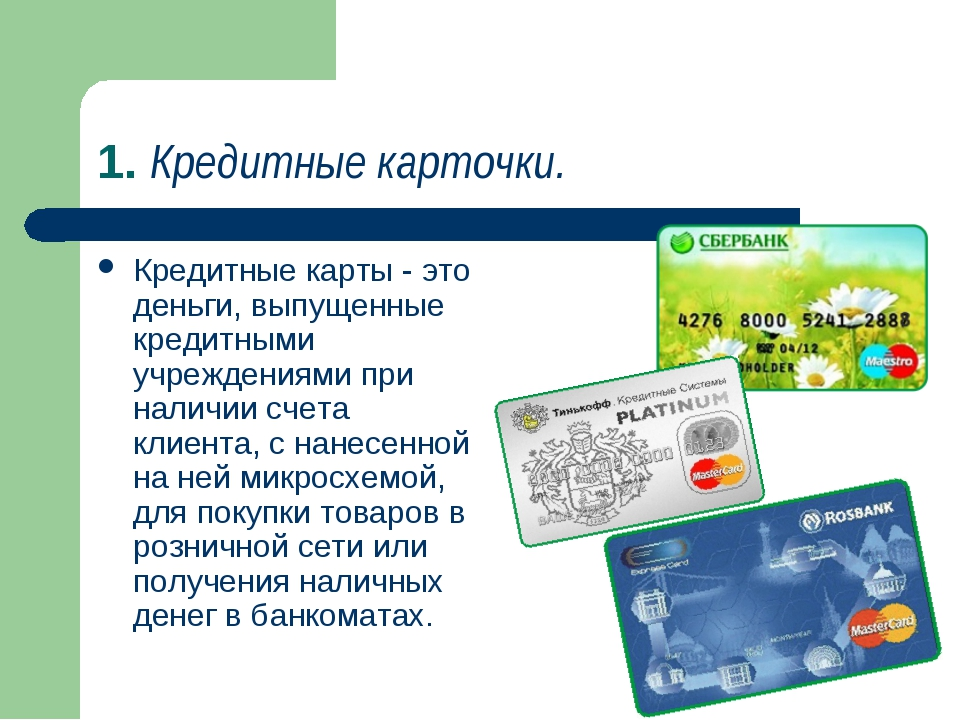card: (610, 482, 939, 712), (496, 358, 764, 546), (657, 224, 929, 393)
